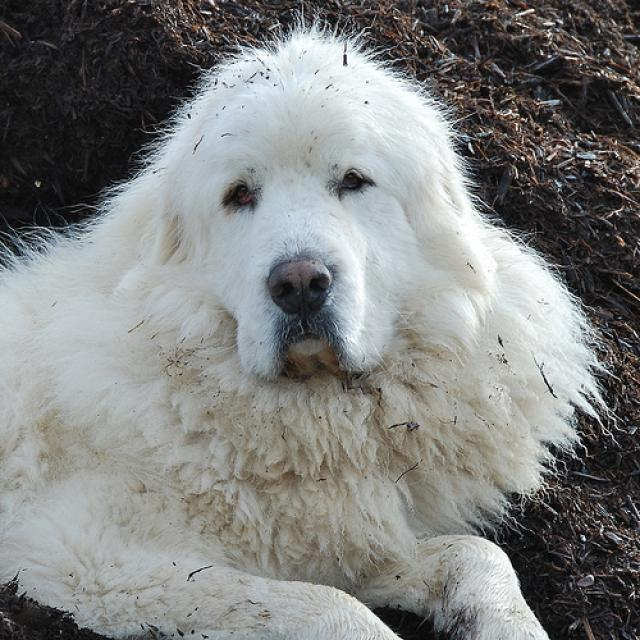dog-great_pyrenees: (1, 9, 637, 637)
